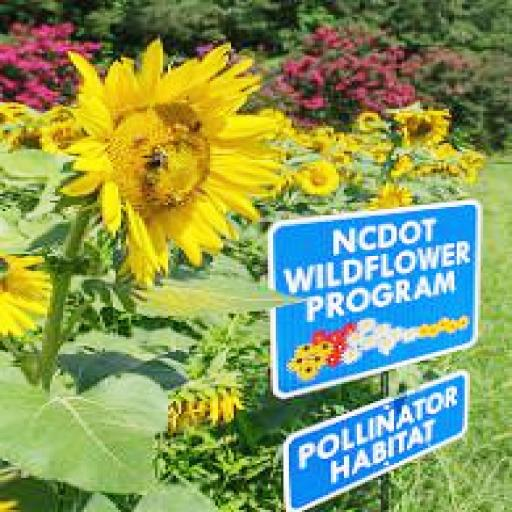sunflower: (60, 47, 281, 279), (404, 109, 449, 143), (302, 162, 341, 192), (370, 179, 407, 209)
